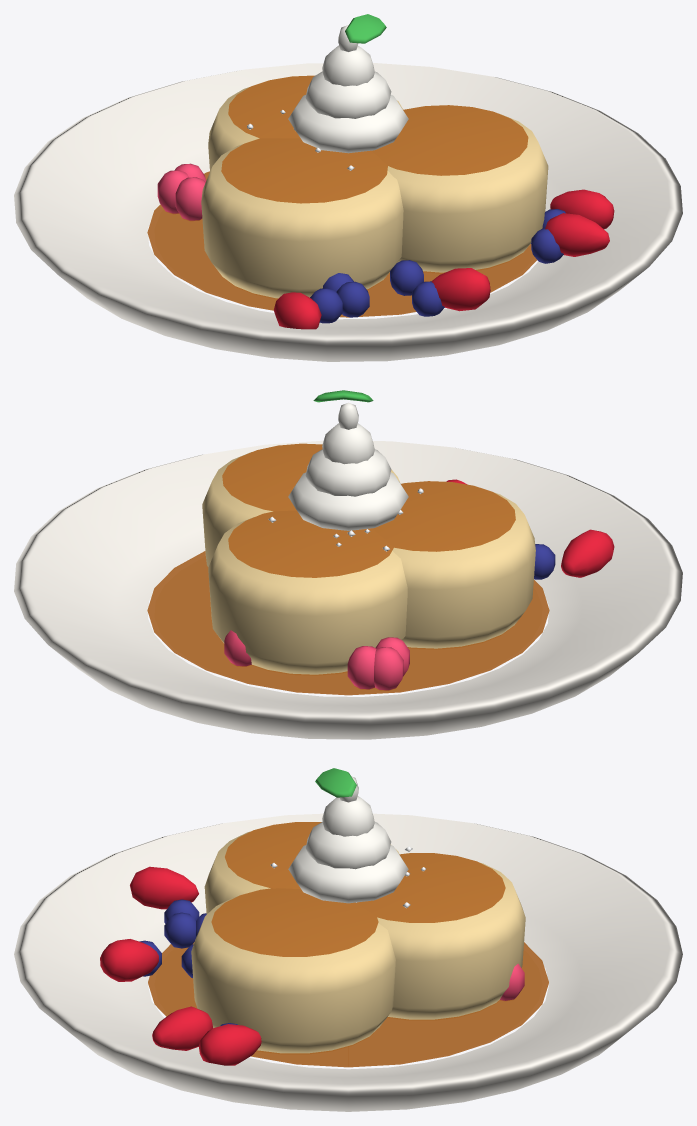
The picture shows the model from 3 angles, top to bottom: view 1: azimuth 30°, elevation 25°; view 2: azimuth 150°, elevation 25°; view 3: azimuth 270°, elevation 25°; orthographic projection.
Visible parts, largest first — view 1: plate, pancake (×3), pancake_top (×3), cream (×3), syrup, strawberry (×4), blueberry (×5), raspberry (×2), mint; view 2: plate, pancake (×3), pancake_top (×3), syrup, cream (×3), raspberry (×3), strawberry, blueberry; view 3: plate, pancake (×3), pancake_top (×3), syrup, cream (×3), strawberry (×4), blueberry, mint.
Part boxes in pixels (<box>): plate: <box>14,63,682,361</box>; pancake (×3): <box>201,87,548,298</box>; pancake_top (×3): <box>221,75,528,203</box>; cream (×3): <box>288,45,408,153</box>; syrup: <box>147,171,536,317</box>; strawberry (×4): <box>273,189,614,329</box>; blueberry (×5): <box>310,228,563,323</box>; raspberry (×2): <box>157,170,205,220</box>; mint: <box>345,14,386,43</box>; plate: <box>14,440,682,739</box>; pancake (×3): <box>202,452,535,674</box>; pancake_top (×3): <box>222,443,515,577</box>; syrup: <box>147,551,549,695</box>; cream (×3): <box>288,423,408,530</box>; raspberry (×3): <box>224,630,403,690</box>; strawberry: <box>561,529,614,577</box>; blueberry: <box>534,544,555,579</box>; plate: <box>14,813,682,1111</box>; pancake (×3): <box>191,831,525,1053</box>; pancake_top (×3): <box>211,822,505,956</box>; syrup: <box>148,942,548,1067</box>; cream (×3): <box>288,796,408,903</box>; strawberry (×4): <box>100,866,261,1065</box>; blueberry: <box>164,912,195,948</box>; mint: <box>315,768,356,797</box>.
Size of the model in its own units: 0.2 by 0.0795 by 0.2.
